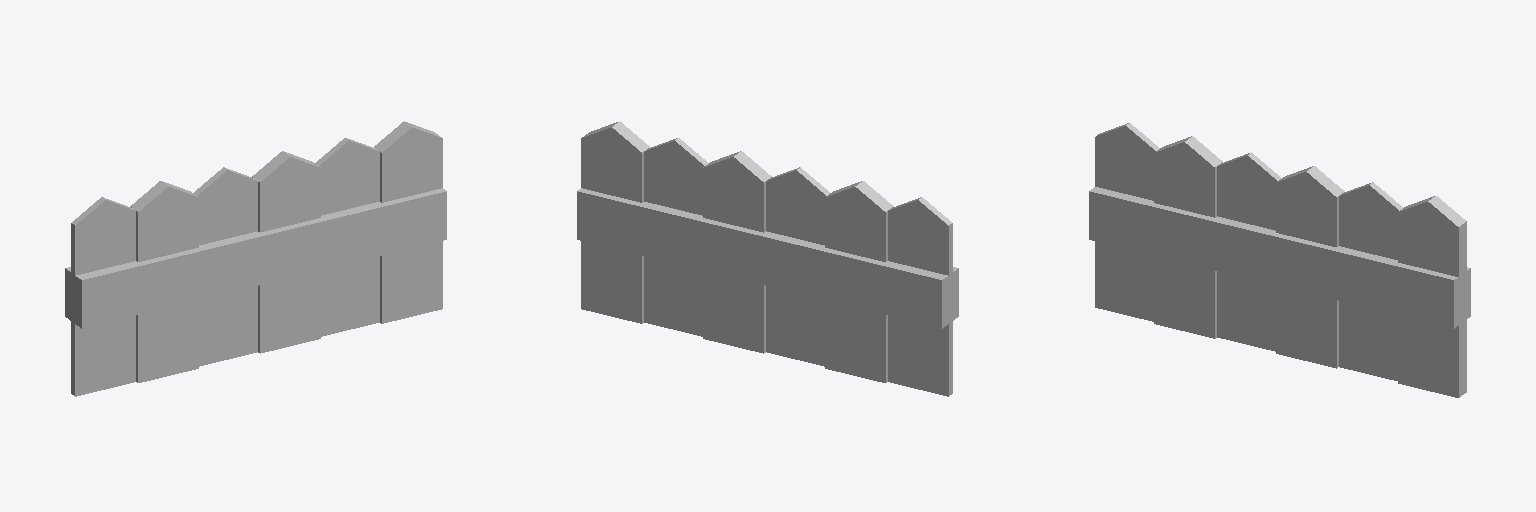
The model's file is fence.obj.
3 renders of one model, left to right at view 1: azimuth 30°, elevation 25°; view 2: azimuth 150°, elevation 25°; view 3: azimuth 330°, elevation 25°, orthographic.
Parts seen in each view (by area): view 1: fence; view 2: fence; view 3: fence.
Boxes of the visible parts, x1=… form: fence: x1=65, y1=121, x2=446, y2=396; fence: x1=577, y1=121, x2=958, y2=396; fence: x1=1089, y1=123, x2=1470, y2=397.
Size of the model in its own units: 1 by 0.4961 by 0.0787.